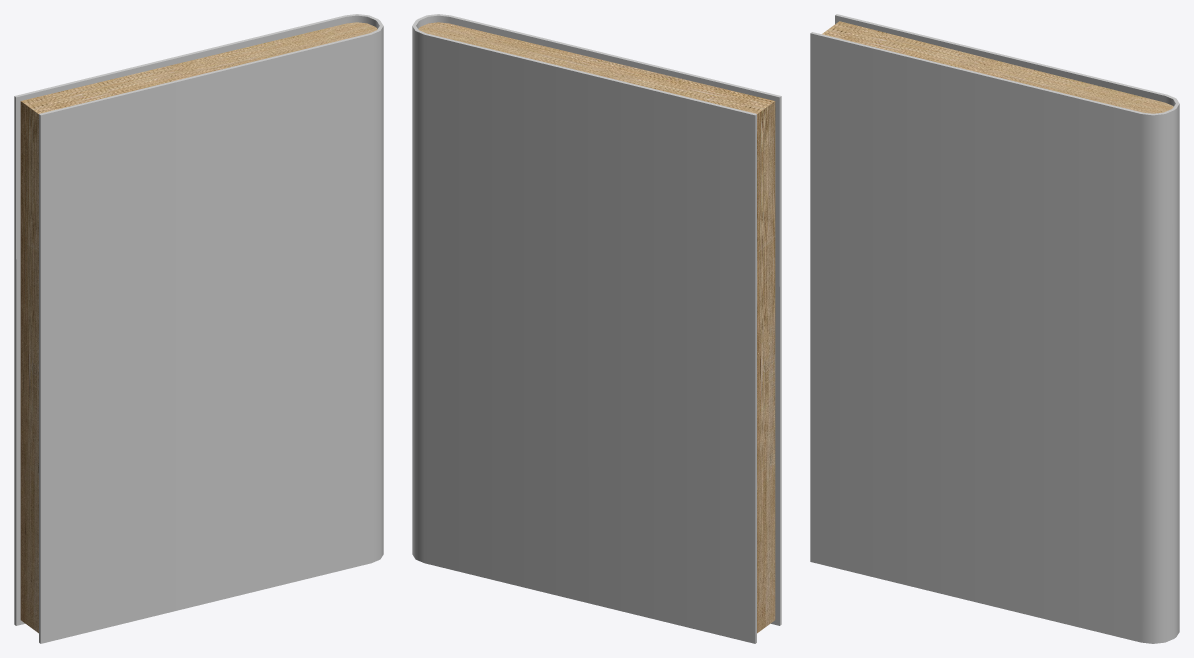
File: Book.fbx
The picture shows the model from 3 angles, left to right: view 1: azimuth 30°, elevation 25°; view 2: azimuth 150°, elevation 25°; view 3: azimuth 330°, elevation 25°; orthographic projection.
Visible parts, largest first — view 1: Cube; view 2: Cube; view 3: Cube.
Boxes of the visible parts, <box> form: Cube: <box>14,14,383,643</box>; Cube: <box>412,14,781,643</box>; Cube: <box>810,14,1179,643</box>.
Bounding box in the file's own units: 15.59 × 22.38 × 2.03.
